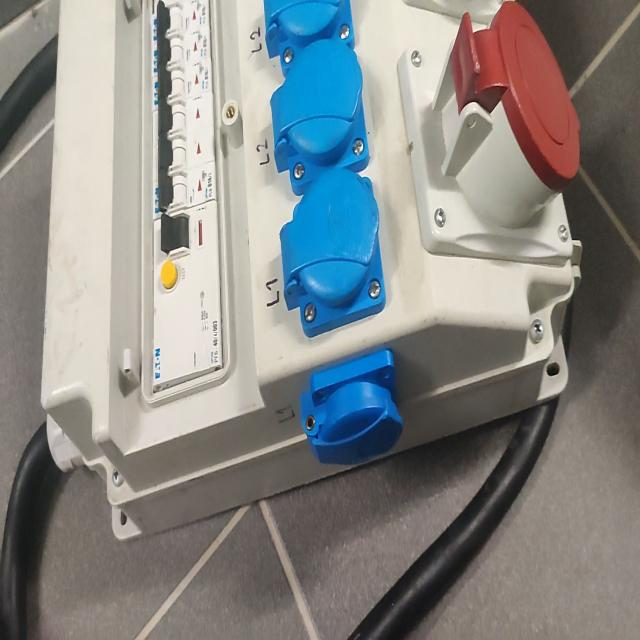400v socket: (397, 3, 581, 266)
house plug covered: (279, 165, 386, 339), (271, 39, 371, 195), (300, 349, 403, 464), (263, 0, 357, 79)
